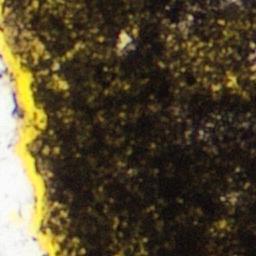cement_matrix: (4, 0, 255, 255), (119, 34, 129, 47), (33, 43, 41, 53), (57, 81, 62, 85)
cracks: (0, 0, 62, 255)
gravel_crushed_stones: (0, 48, 44, 255), (120, 35, 128, 46), (34, 44, 40, 52), (58, 82, 61, 84)
